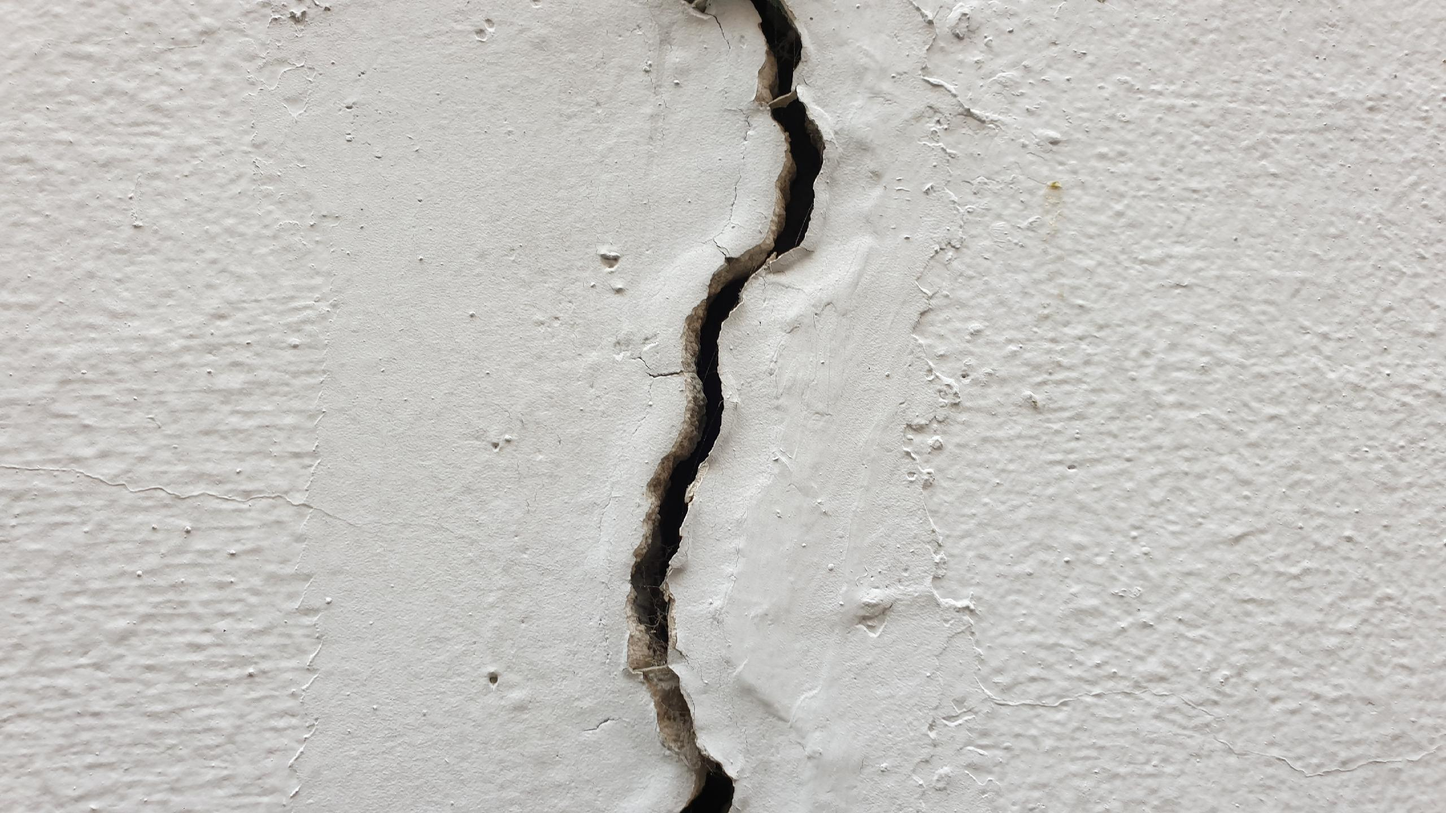crack: (624, 1, 828, 810), (684, 1, 710, 18)
